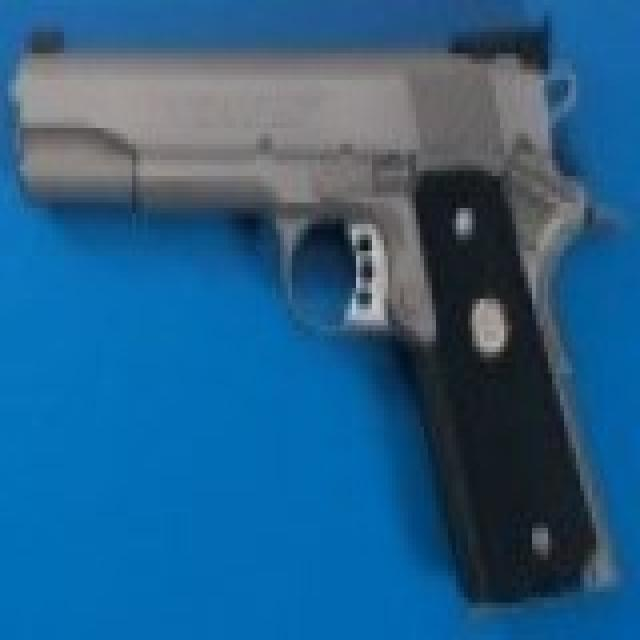Gun: (24, 21, 620, 585)
